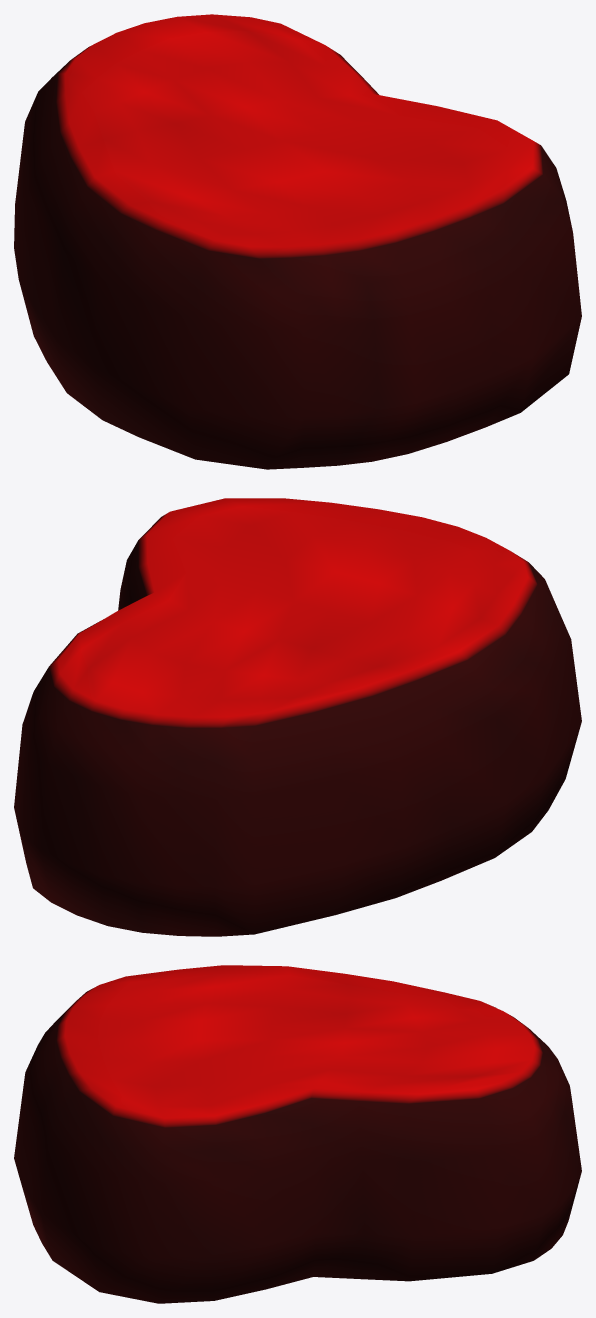
The model's file is geology-landforms-iceplateautiny_v3.fbx.
3 views of the same model, one above another, from view 1: azimuth 30°, elevation 25°; view 2: azimuth 150°, elevation 25°; view 3: azimuth 270°, elevation 25° (orthographic). The views are drawn at different scales.
Parts seen in each view (by area): view 1: IcePlateauTiny_v3; view 2: IcePlateauTiny_v3; view 3: IcePlateauTiny_v3.
Boxes of the visible parts, left/top/right/bottom form: IcePlateauTiny_v3: left=14, top=14, right=581, bottom=469; IcePlateauTiny_v3: left=14, top=498, right=581, bottom=936; IcePlateauTiny_v3: left=14, top=965, right=581, bottom=1303.
Bounding box in the file's own units: 34.14 × 15.04 × 44.3.
